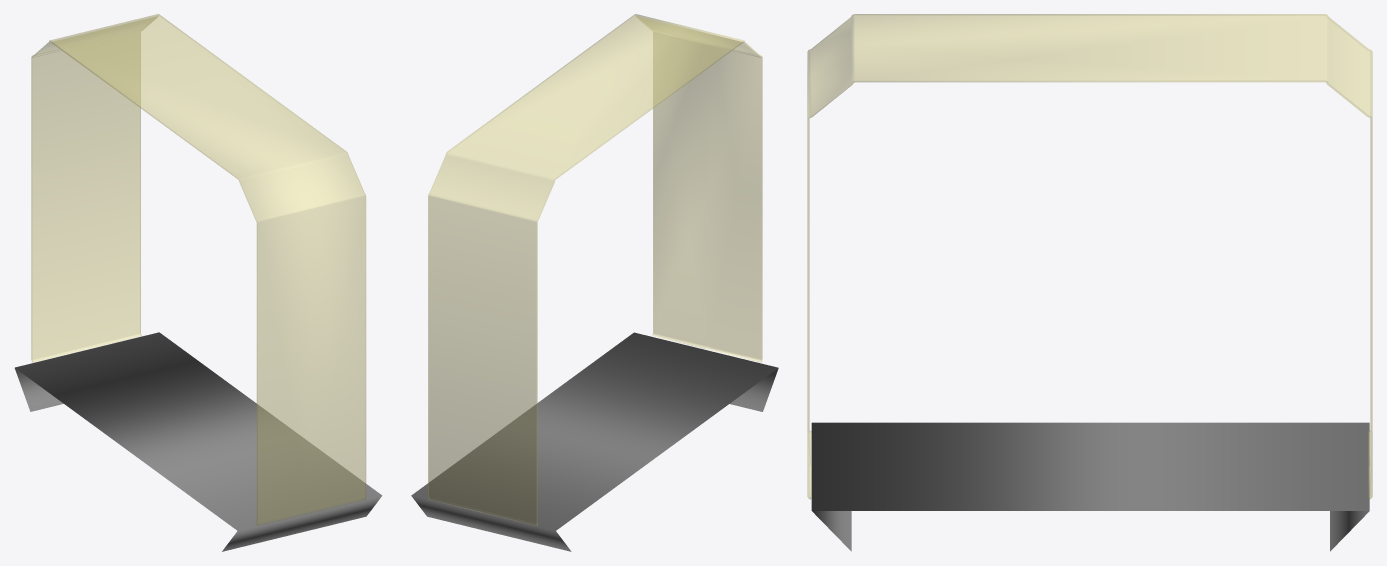
File: Reform.001.fbx
3 views of the same model, side by side, from view 1: azimuth 30°, elevation 25°; view 2: azimuth 150°, elevation 25°; view 3: azimuth 270°, elevation 25° (orthographic). The views are drawn at different scales.
Parts seen in each view (by area): view 1: mod_HallCube.end.004, mod_FloorCorner.Hall.001; view 2: mod_HallCube.end.004, mod_FloorCorner.Hall.001; view 3: mod_FloorCorner.Hall.001, mod_HallCube.end.004.
Boxes of the visible parts, box(x1,y1,x2,y2) form: mod_HallCube.end.004: box(31, 14, 366, 526); mod_FloorCorner.Hall.001: box(14, 332, 382, 551); mod_HallCube.end.004: box(428, 14, 762, 525); mod_FloorCorner.Hall.001: box(411, 332, 778, 551); mod_FloorCorner.Hall.001: box(811, 422, 1369, 551); mod_HallCube.end.004: box(807, 14, 1372, 499).
Size of the model in its own units: 400 by 972 by 1081.
